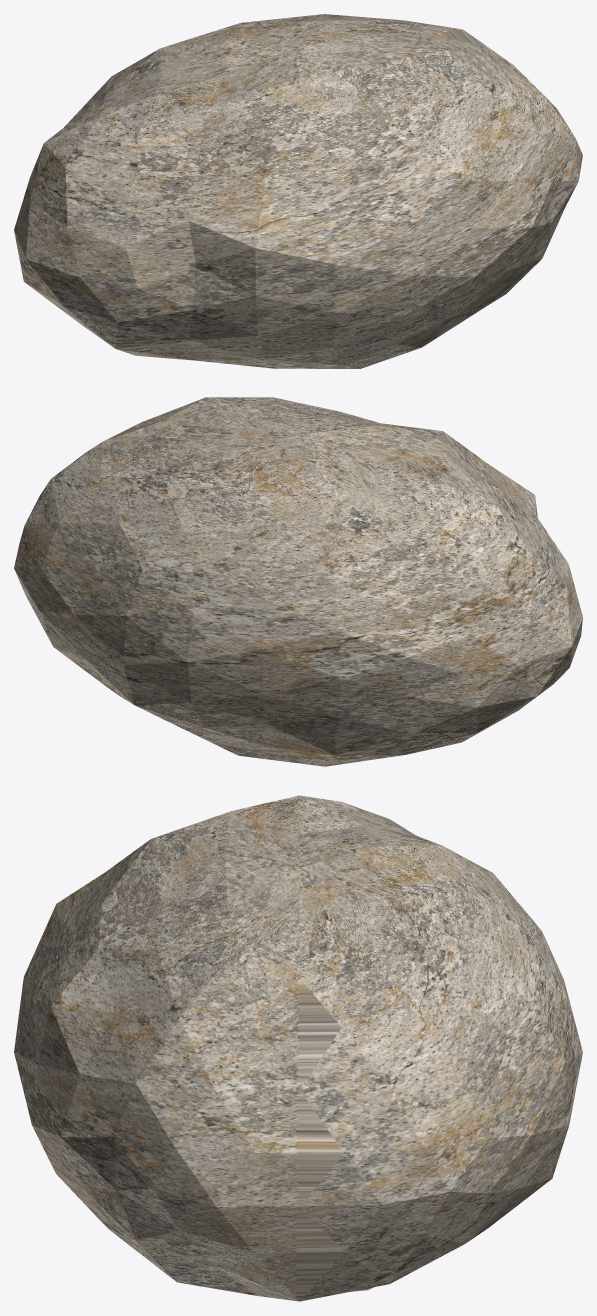
Rendered from upland-limestone.glb.
The picture shows the model from 3 angles, top to bottom: view 1: azimuth 30°, elevation 25°; view 2: azimuth 150°, elevation 25°; view 3: azimuth 270°, elevation 25°; orthographic projection. The views are drawn at different scales.
Parts seen in each view (by area): view 1: upland-limestone; view 2: upland-limestone; view 3: upland-limestone.
Boxes of the visible parts, x1,y1,x2,y2 form: upland-limestone: (14, 14, 582, 368); upland-limestone: (14, 397, 582, 766); upland-limestone: (14, 795, 582, 1301).
Size of the model in its own units: 3.31 by 1.8 by 2.46.
Materials: 1 (1 with a texture image).
